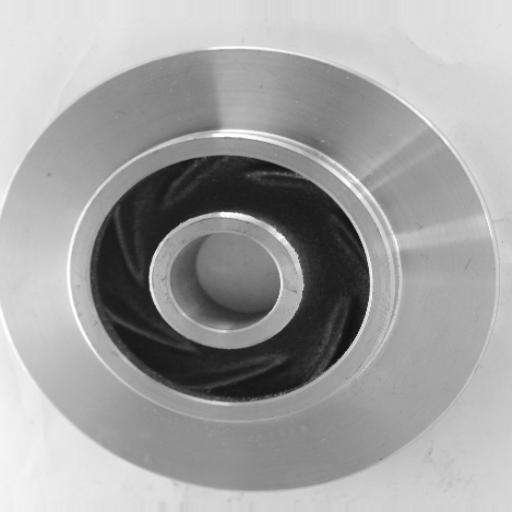polished_casting: (0, 49, 500, 493)
